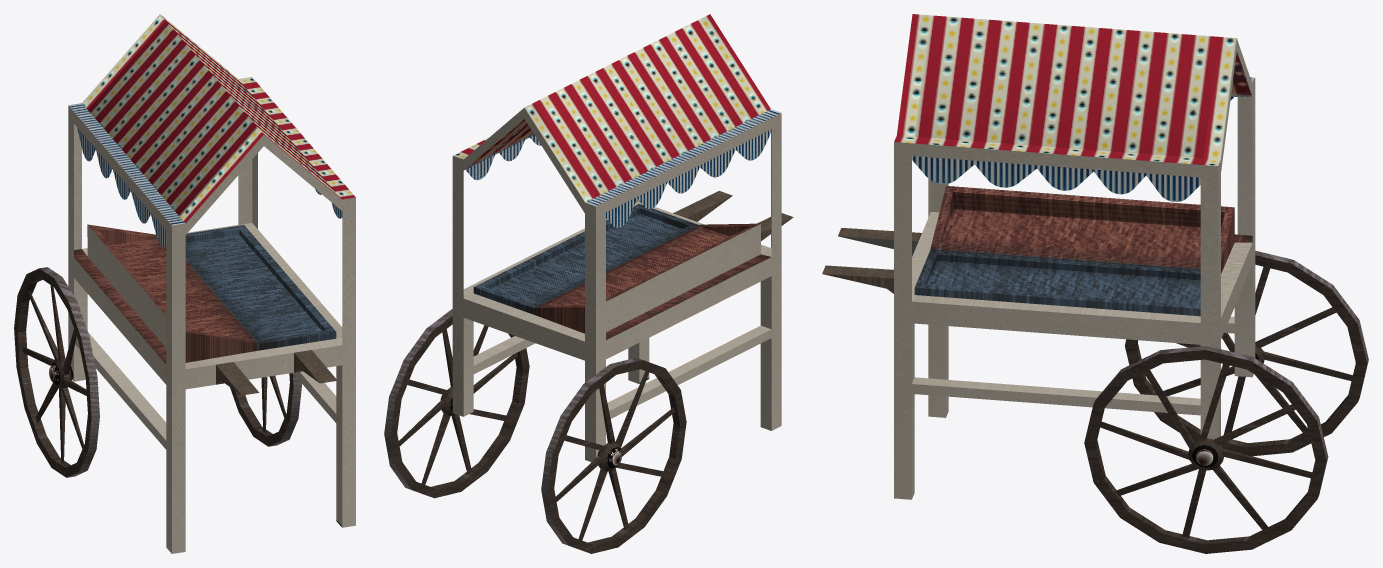
The model's file is sweet_Stall.FBX.
3 views of the same model, side by side, from view 1: azimuth 30°, elevation 25°; view 2: azimuth 150°, elevation 25°; view 3: azimuth 270°, elevation 25° (orthographic). The views are drawn at different scales.
Visible parts, largest first — view 1: Sweet_Stall, wheel, wheel001; view 2: Sweet_Stall, wheel, wheel001; view 3: Sweet_Stall, wheel001, wheel.
Part boxes in pixels (box(x1,y1,x2,y2)): Sweet_Stall: box(68, 14, 355, 553); wheel: box(14, 267, 99, 477); wheel001: box(230, 373, 301, 446); Sweet_Stall: box(452, 14, 793, 462); wheel: box(541, 357, 686, 553); wheel001: box(384, 309, 529, 498); Sweet_Stall: box(822, 14, 1255, 499); wheel001: box(1084, 346, 1328, 553); wheel: box(1125, 250, 1368, 456).
Bounding box in the file's own units: 37.87 × 66.63 × 70.33.
